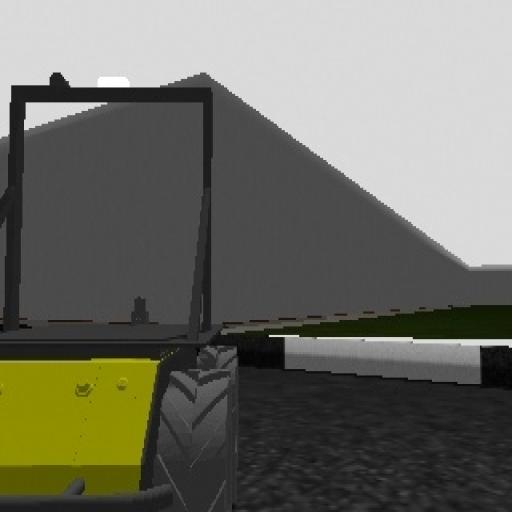huskya200: (0, 48, 262, 512)
